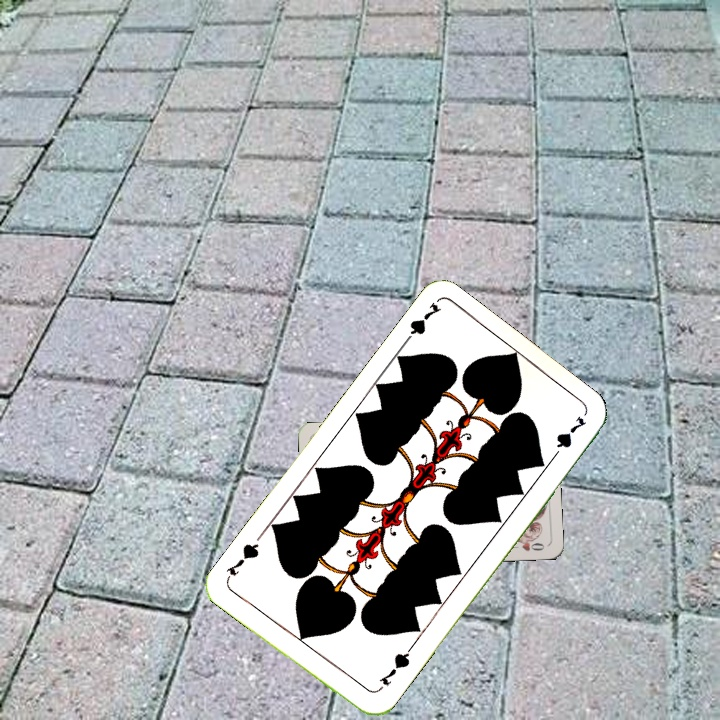G7: (397, 298, 444, 349), (375, 644, 414, 688)
